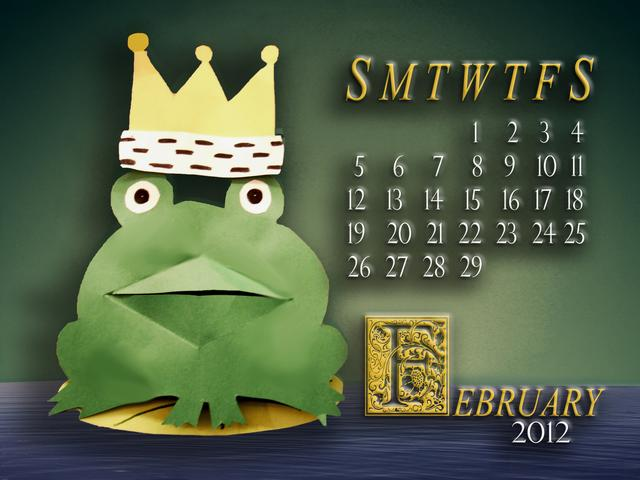frog: (38, 144, 363, 471)
